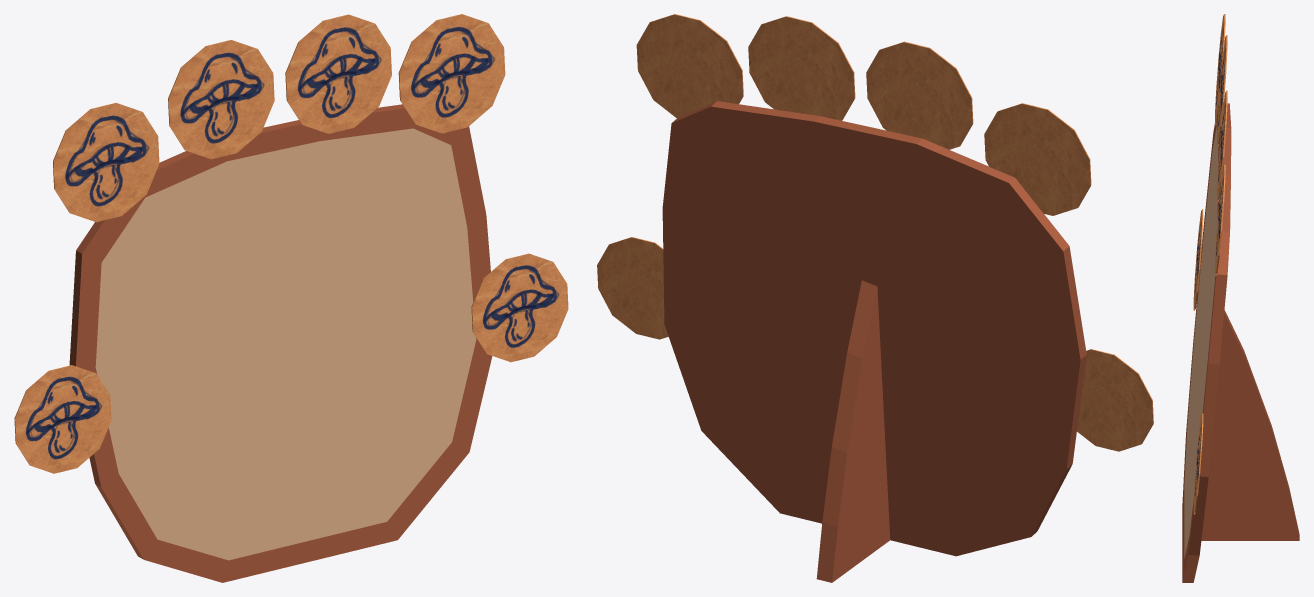
File: Blueprint_Menu.fbx
3 views of the same model, side by side, from view 1: azimuth 30°, elevation 25°; view 2: azimuth 150°, elevation 25°; view 3: azimuth 270°, elevation 25° (orthographic). The views are drawn at different scales.
Parts seen in each view (by area): view 1: Cardboard, Material_1, Material_4, Material_3, Material_2, Material_1.001, Material_1.002; view 2: Cardboard, Material_3, Material_2, Material_4, Material_1, Material_1.002, Material_1.001; view 3: Cardboard, Material_1, Material_3, Material_2, Material_1.001, Material_1.002, Material_4.
Boxes of the visible parts, box(x1,y1,x2,y2) form: Cardboard: box(69, 104, 492, 582); Material_1: box(398, 14, 505, 133); Material_4: box(53, 103, 159, 222); Material_3: box(168, 40, 274, 159); Material_2: box(285, 14, 391, 133); Material_1.001: box(471, 253, 568, 362); Material_1.002: box(14, 365, 111, 473); Cardboard: box(662, 101, 1086, 582); Material_3: box(866, 41, 973, 149); Material_2: box(748, 16, 855, 120); Material_4: box(984, 103, 1091, 215); Material_1: box(636, 14, 743, 117); Material_1.002: box(1077, 349, 1153, 451); Material_1.001: box(597, 237, 668, 339); Cardboard: box(1182, 103, 1299, 582); Material_1: box(1215, 164, 1225, 275); Material_3: box(1217, 35, 1227, 146); Material_2: box(1217, 90, 1227, 201); Material_1.001: box(1193, 413, 1203, 514); Material_1.002: box(1193, 209, 1203, 310); Material_4: box(1215, 14, 1225, 125).
Size of the model in its own units: 357 by 71.61 by 319.
